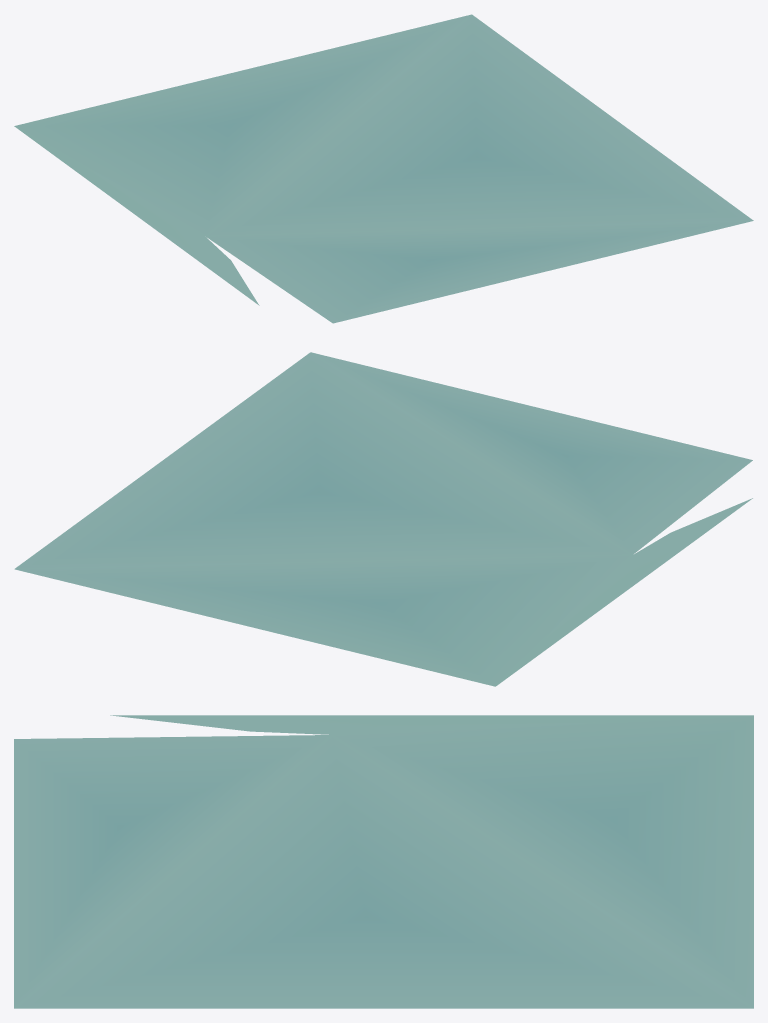
Rendered from water-19-11.glb.
3 views of the same model, one above another, from view 1: azimuth 30°, elevation 25°; view 2: azimuth 150°, elevation 25°; view 3: azimuth 270°, elevation 25° (orthographic). The views are drawn at different scales.
Bounding box in the file's own units: 15 × 0 × 16.
